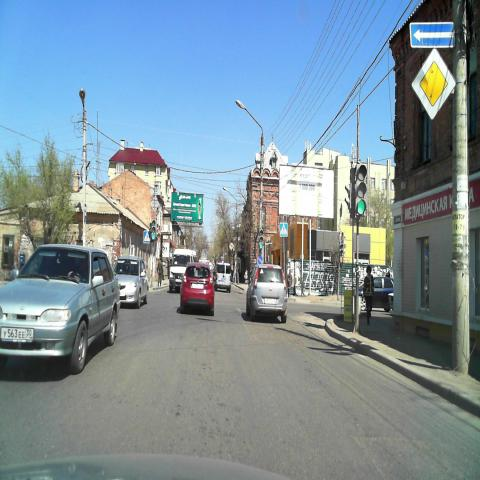5_7_2: (409, 22, 455, 48)
